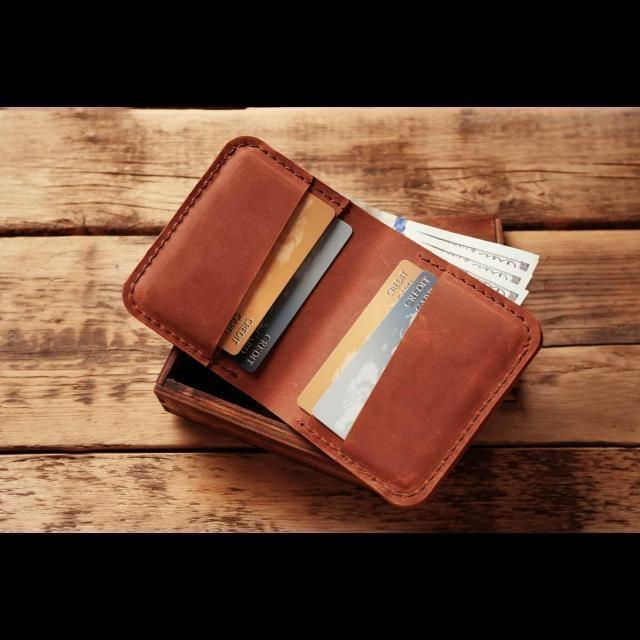Wallet: (122, 136, 544, 507)
